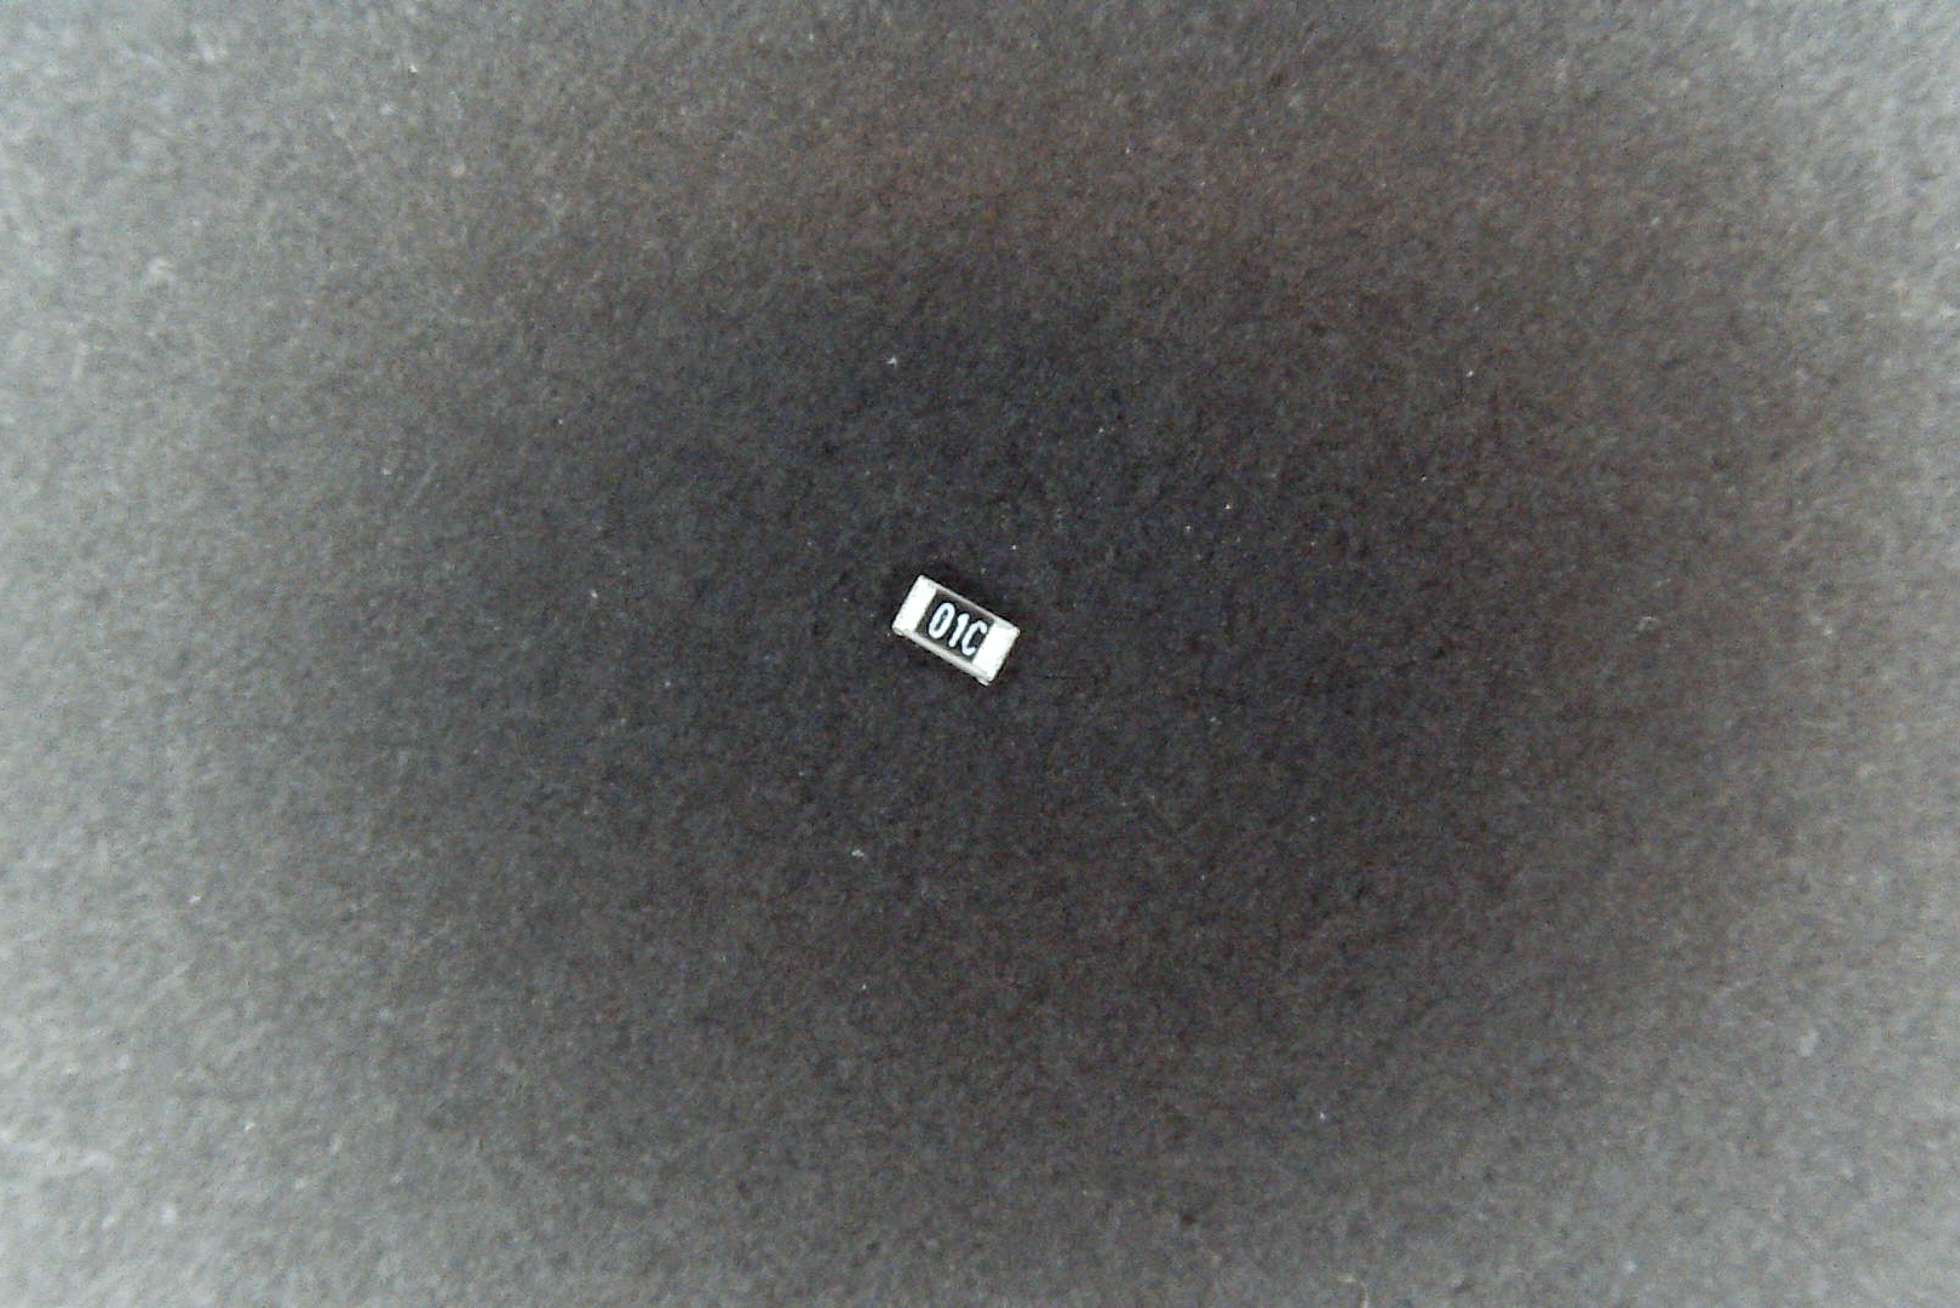bbox: (887, 574, 1020, 690)
